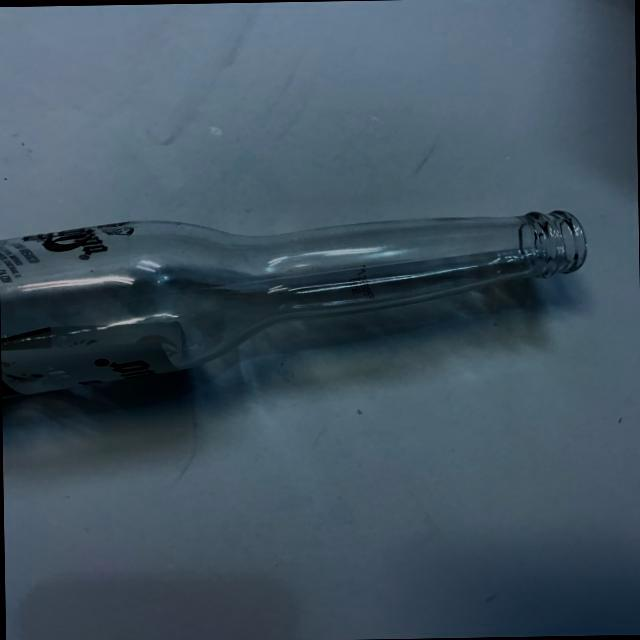glass: (0, 188, 604, 414)
